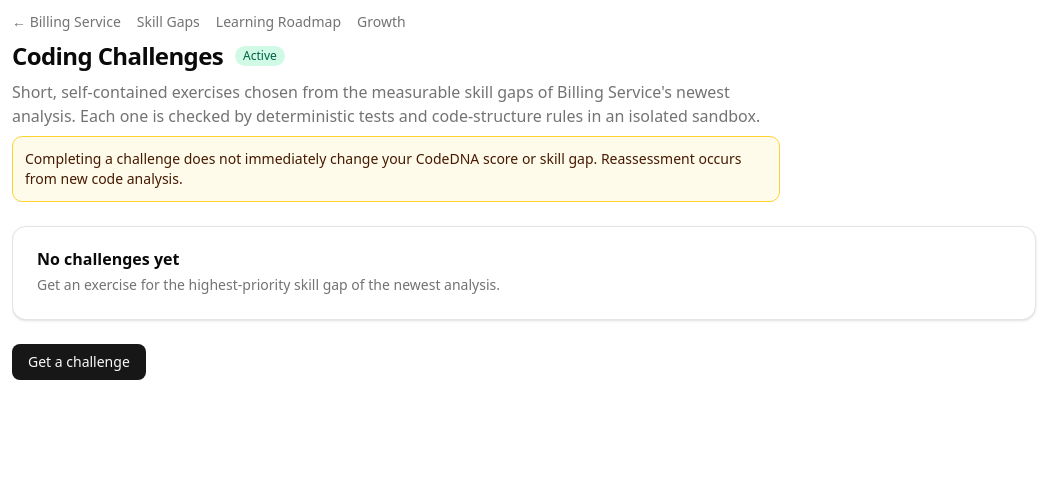
ChallengeList › shows API refusals such as no eligible gap
This screenshot has width=1053, height=495.
Click the button "Get a challenge" at (79, 362), box [12,344,146,380]
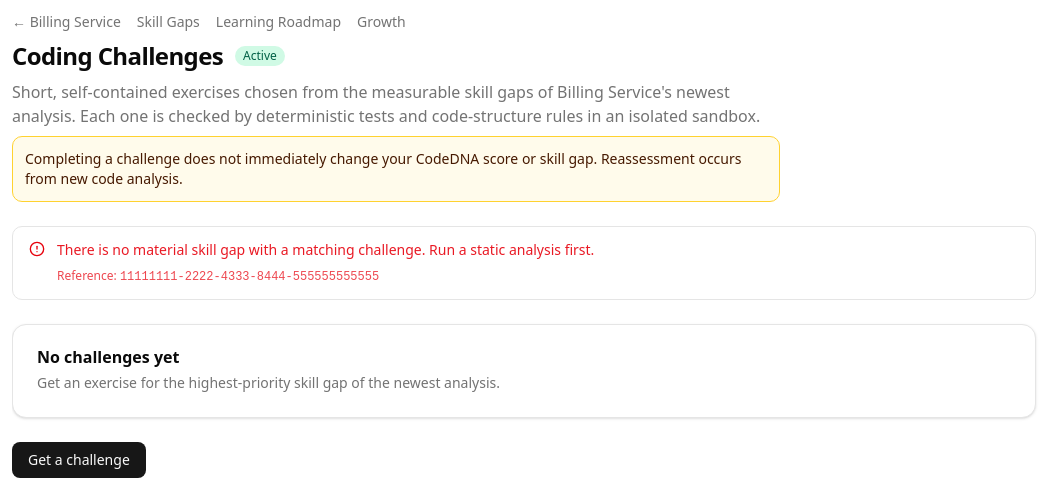
Check: the text "There is no material skill gap with a matching challenge. Run a static analysis first." is shown, box [57,240,594,259]
